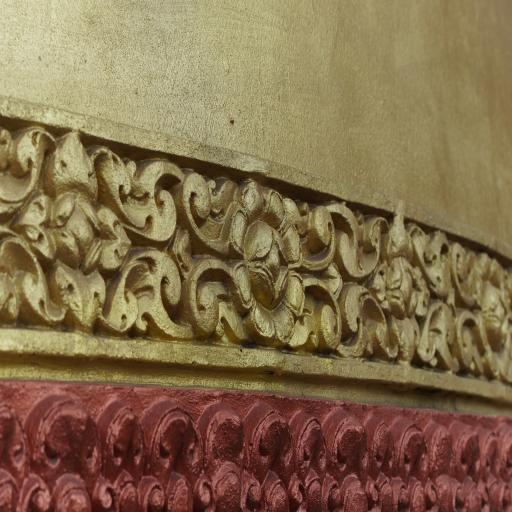hoa: (22, 132, 127, 330), (218, 184, 305, 348), (368, 216, 430, 362)
la: (23, 381, 114, 512), (102, 141, 186, 244), (140, 397, 204, 512), (118, 252, 193, 346), (239, 402, 299, 512), (196, 404, 250, 510), (322, 279, 384, 371), (100, 402, 154, 506), (310, 205, 379, 284), (325, 408, 374, 512), (283, 410, 332, 512), (450, 242, 512, 310), (457, 312, 512, 384), (396, 422, 433, 512), (367, 417, 402, 512), (453, 420, 484, 512), (426, 412, 454, 512), (481, 421, 512, 511)
